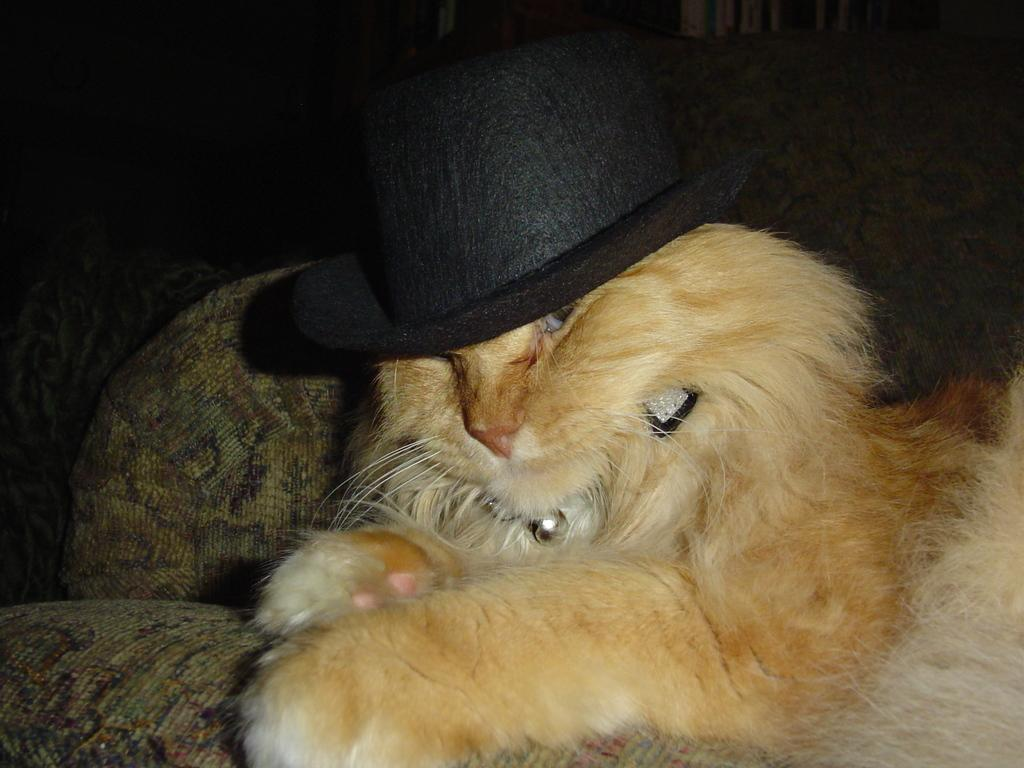Hat: (286, 23, 762, 362)
